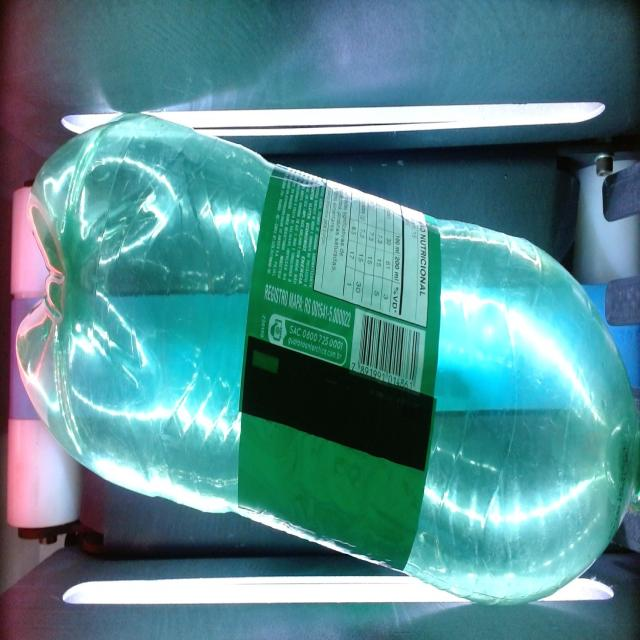bottom: (13, 103, 149, 470)
code: (346, 304, 430, 396)
